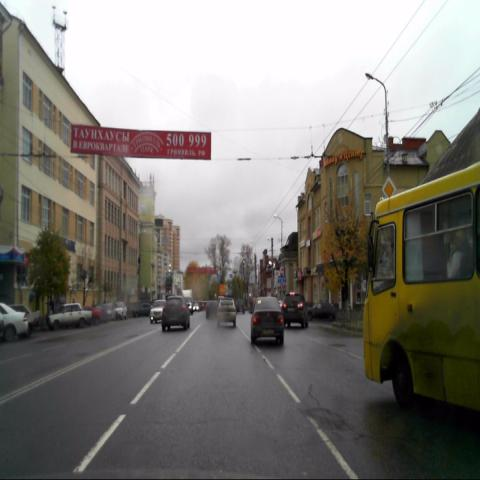2_1: (382, 176, 395, 201)
